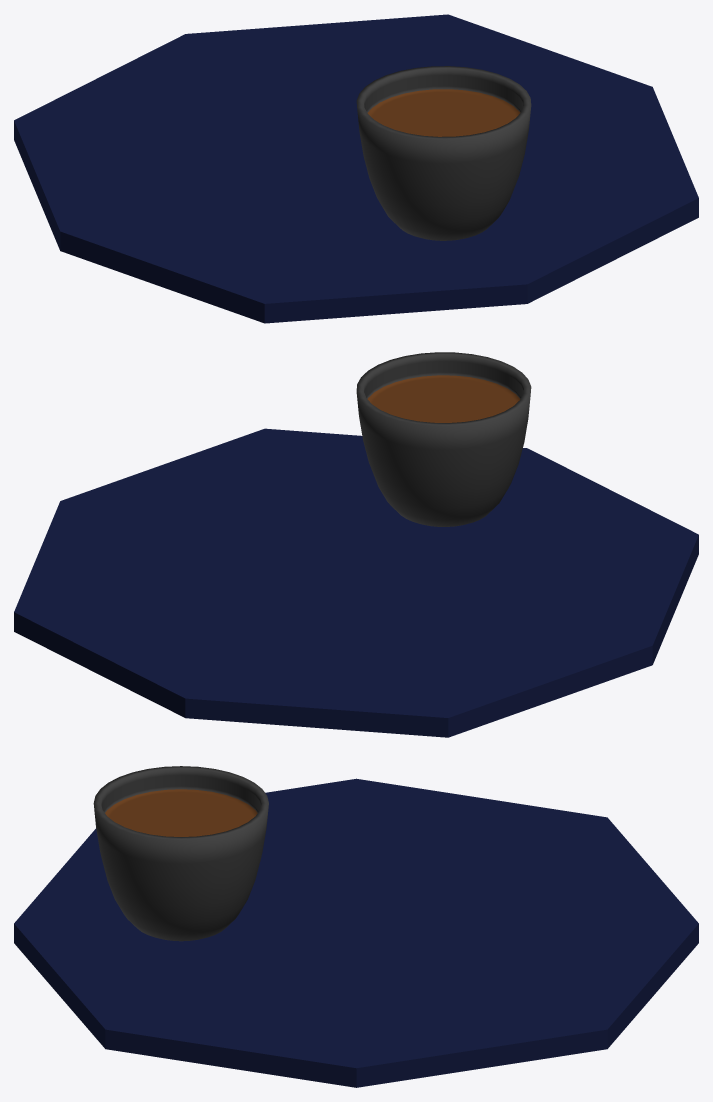
The model's file is Escenario_4.fbx.
3 views of the same model, one above another, from view 1: azimuth 30°, elevation 25°; view 2: azimuth 150°, elevation 25°; view 3: azimuth 270°, elevation 25° (orthographic).
Parts seen in each view (by area): view 1: Terreno.003, Cocina; view 2: Terreno.003, Cocina; view 3: Terreno.003, Cocina.
Boxes of the visible parts, x1,y1,x2,y2 form: Terreno.003: (14,14,698,323); Cocina: (356,66,531,240); Terreno.003: (14,428,698,737); Cocina: (356,352,531,526); Terreno.003: (14,778,698,1087); Cocina: (93,766,268,941).
Size of the model in its own units: 336 by 75.8 by 336.
